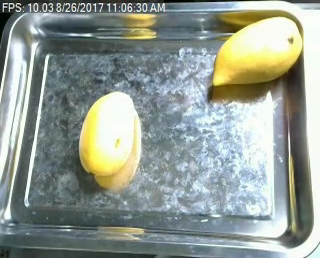Mango: (205, 13, 303, 89), (78, 88, 140, 178)
